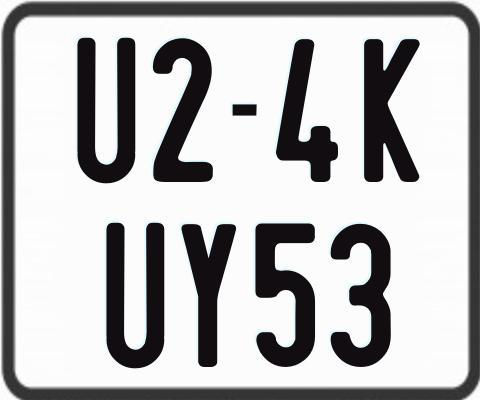2: (150, 35, 215, 183)
3: (329, 223, 392, 369)
4: (275, 36, 343, 182)
5: (254, 220, 314, 368)
K: (361, 39, 422, 185)
U: (76, 36, 140, 184), (105, 223, 169, 368)
Y: (182, 221, 237, 364)
